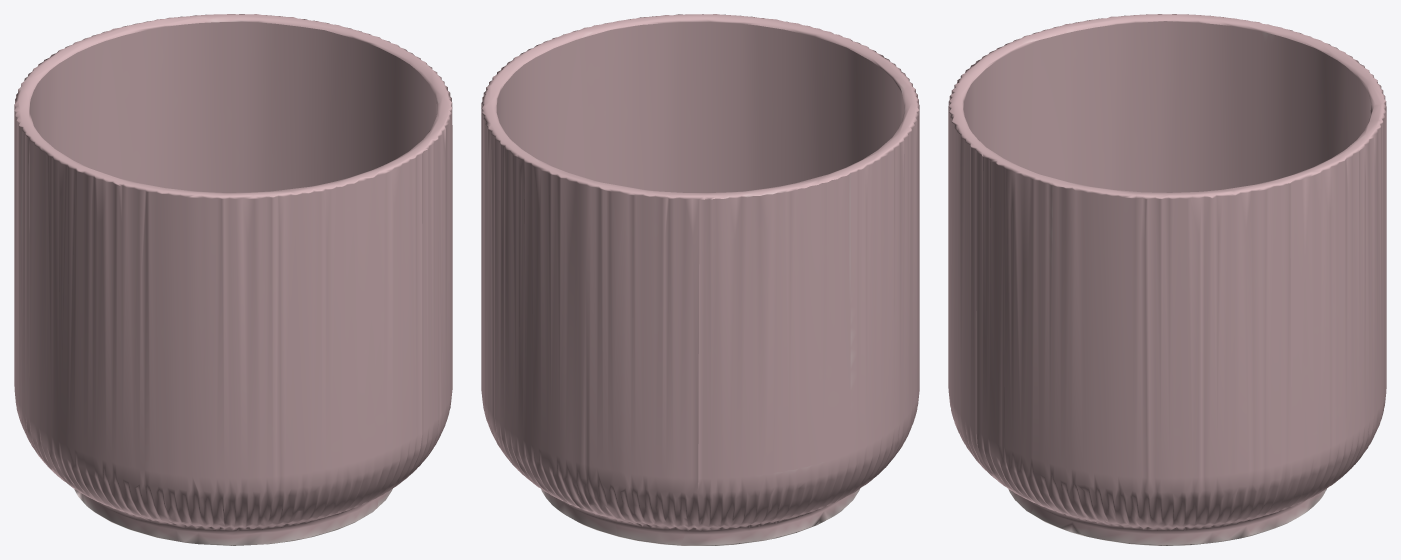
File: 10 - GRADVIS Plant pot - pink 12 cm.glb
3 renders of one model, left to right at view 1: azimuth 30°, elevation 25°; view 2: azimuth 150°, elevation 25°; view 3: azimuth 270°, elevation 25°, orthographic.
Parts seen in each view (by area): view 1: ProcessedMeshNode; view 2: ProcessedMeshNode; view 3: ProcessedMeshNode.
Part boxes in pixels (bbox=[...]): ProcessedMeshNode: bbox=[14, 14, 452, 545]; ProcessedMeshNode: bbox=[481, 14, 919, 545]; ProcessedMeshNode: bbox=[948, 14, 1386, 545].
Bounding box in the file's own units: 0.1336 × 0.1255 × 0.1336.
Materials: 1 (1 with a texture image).
